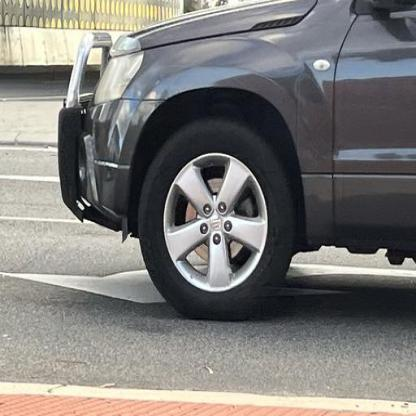Tire: (137, 116, 293, 322)
